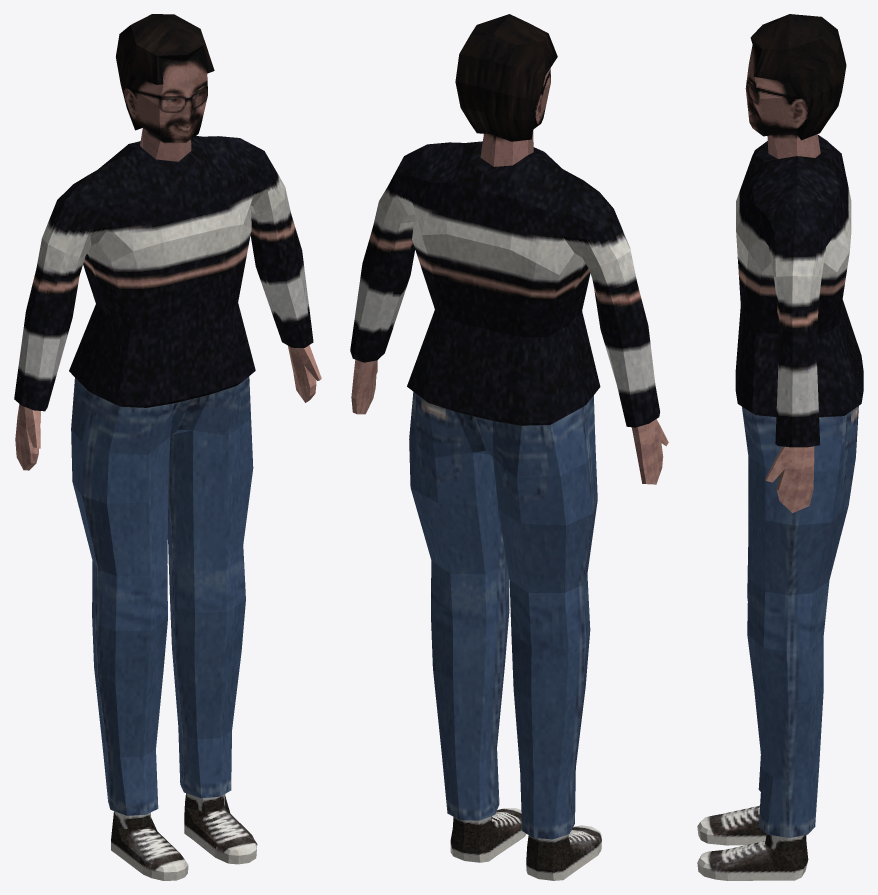
Rendered from willong_ps1_horror_style.glb.
3 renders of one model, left to right at view 1: azimuth 30°, elevation 25°; view 2: azimuth 150°, elevation 25°; view 3: azimuth 270°, elevation 25°, orthographic. The views are drawn at different scales.
Parts seen in each view (by area): view 1: pCube1; view 2: pCube1; view 3: pCube1.
Part boxes in pixels (x1,y1,x2,y2): pCube1: [14, 14, 321, 880]; pCube1: [350, 14, 668, 880]; pCube1: [697, 14, 863, 880].
Size of the model in its own units: 0.6515 by 1.76 by 0.3152.
Materials: 1 (1 with a texture image).
